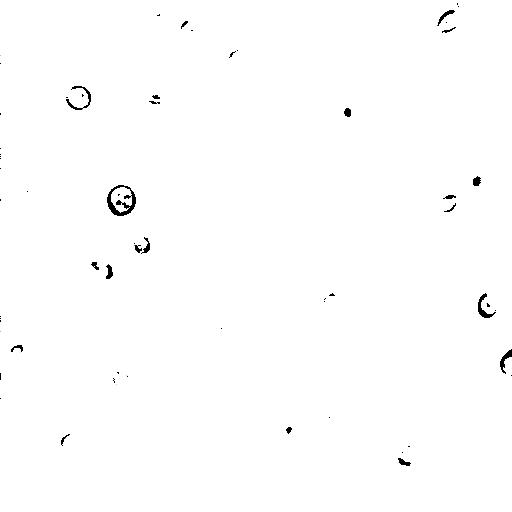micro-algae: (106, 184, 138, 216), (283, 120, 313, 153), (333, 96, 361, 130), (19, 179, 45, 209), (223, 45, 252, 71), (65, 85, 93, 111), (391, 445, 417, 473), (477, 291, 501, 319), (437, 8, 463, 32), (317, 291, 345, 313), (461, 167, 485, 192), (280, 420, 305, 444), (58, 431, 83, 453), (129, 232, 152, 255), (83, 253, 105, 276), (92, 261, 115, 283), (179, 18, 201, 40), (498, 346, 511, 378), (110, 369, 129, 390), (437, 195, 459, 211), (149, 11, 165, 29), (451, 1, 473, 12), (11, 343, 25, 357)
